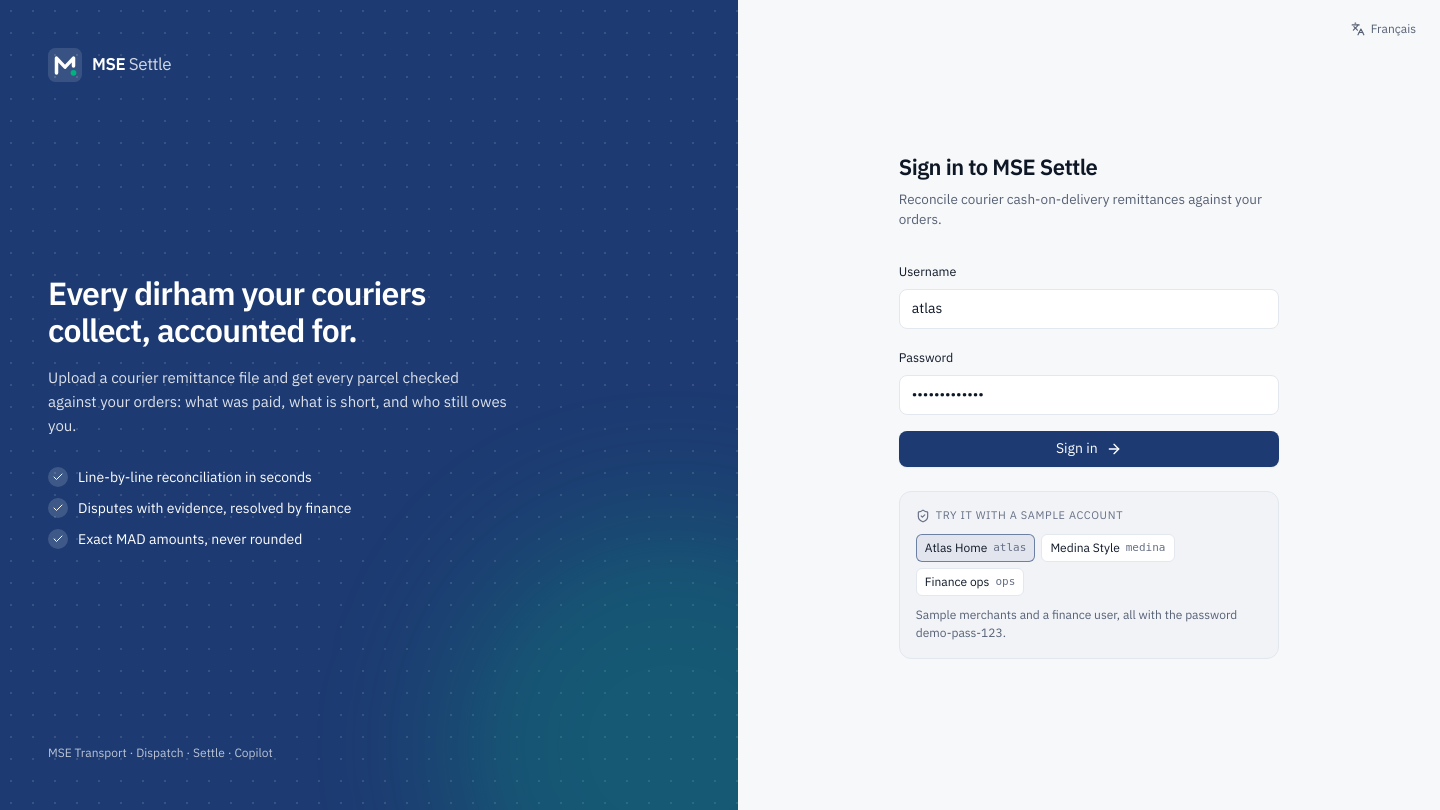
LoginPage › is prefilled with a working demo account and the chips switch user
Expected: the field labelled "Username" holds "atlas", [899, 288, 1279, 328]
Expected: the password field labelled "Password" holds "demo-pass-123", [899, 374, 1279, 414]
Step 1. Click the button with test id "demo-ops" → [970, 582], box [916, 568, 1024, 596]
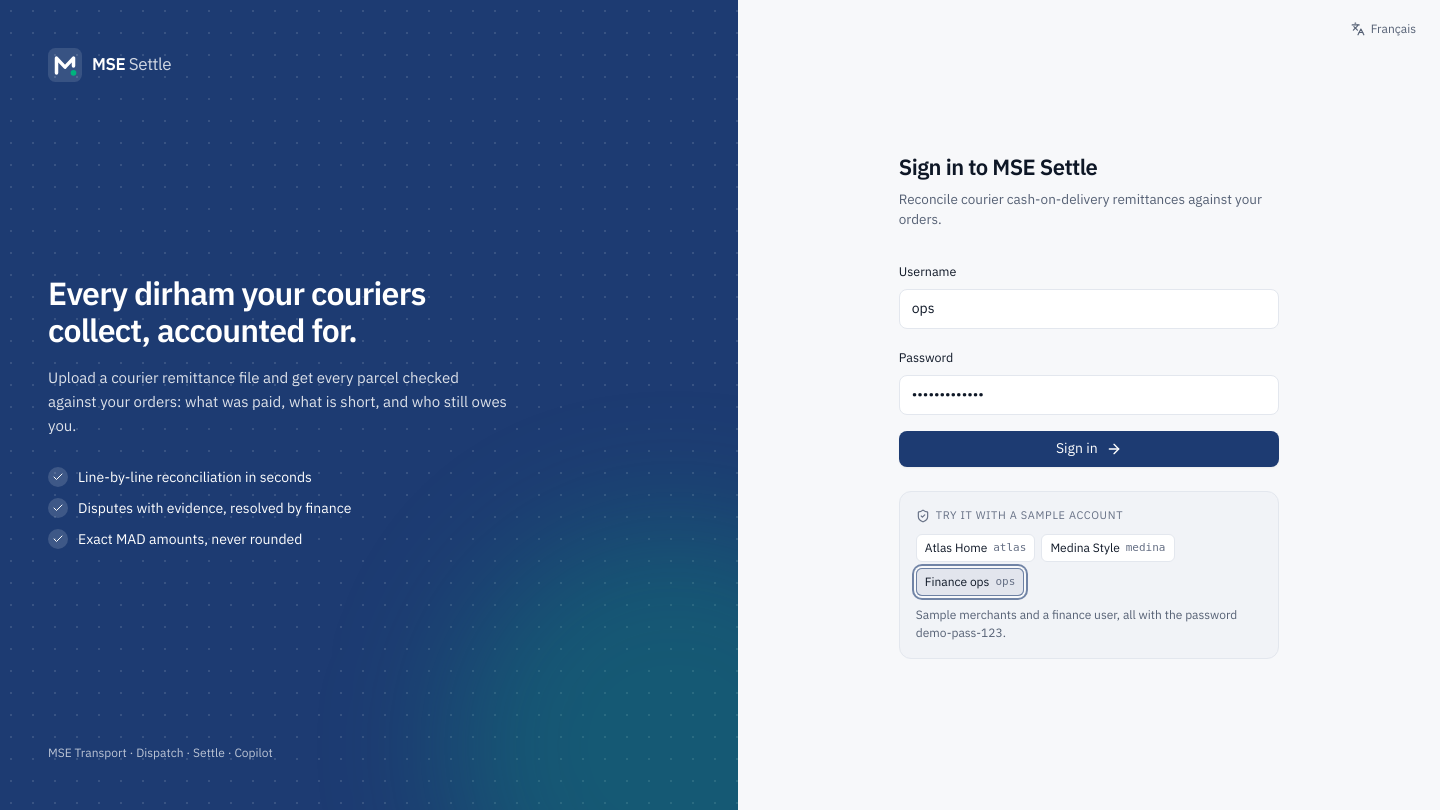
Expected: the password field labelled "Password" holds "demo-pass-123", [899, 374, 1279, 414]
Expected: the field labelled "Username" holds "ops", [899, 288, 1279, 328]
